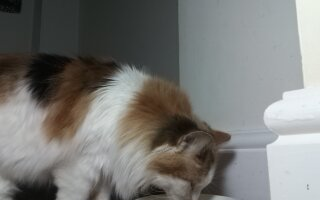clara: (2, 52, 229, 197)
